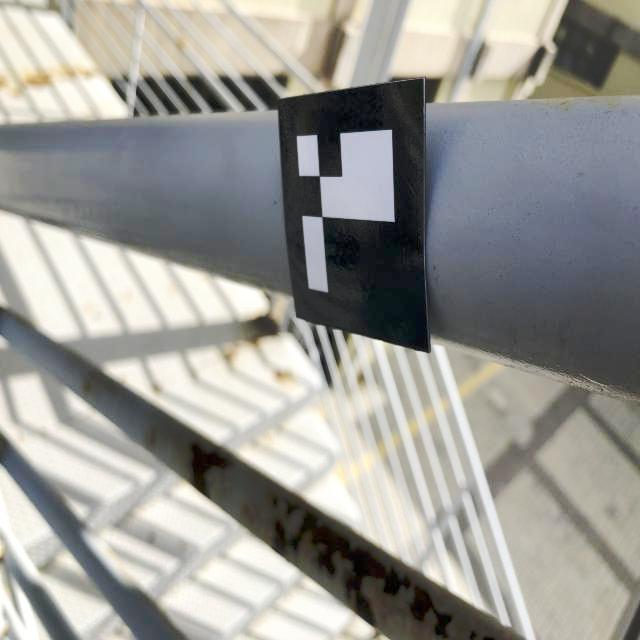Corrosion: (270, 491, 454, 639), (0, 67, 92, 98), (187, 438, 233, 499), (468, 627, 478, 640), (275, 371, 287, 381), (480, 634, 498, 640), (226, 351, 234, 359), (179, 38, 183, 46)
